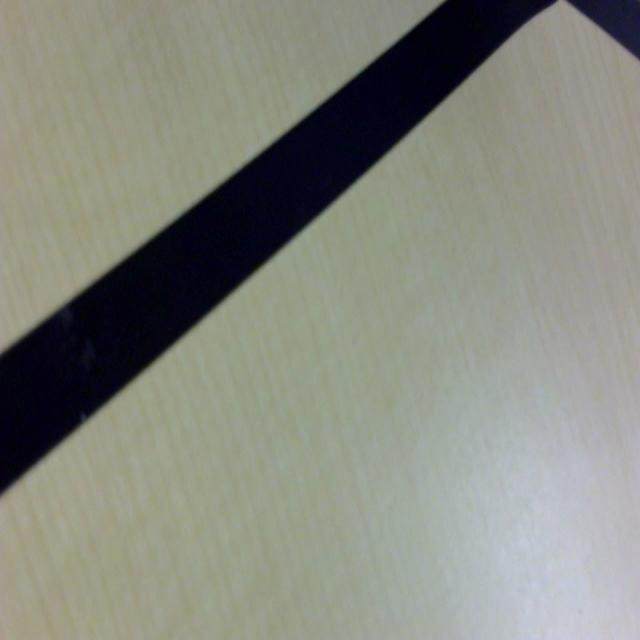tape: (2, 0, 560, 503)
